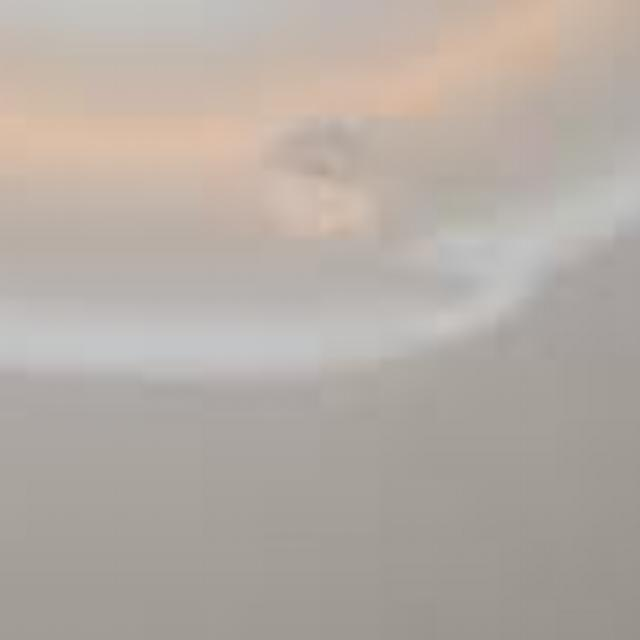dents: (258, 90, 384, 266)
